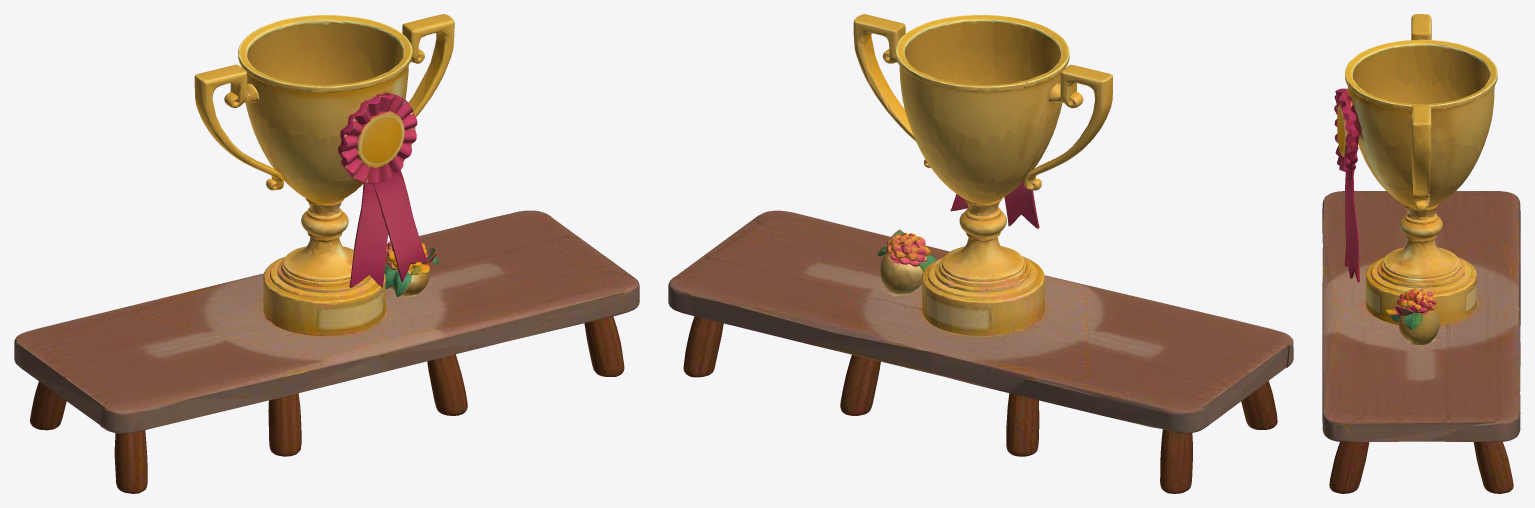
File: trophy_stand.glb
3 views of the same model, side by side, from view 1: azimuth 30°, elevation 25°; view 2: azimuth 150°, elevation 25°; view 3: azimuth 270°, elevation 25° (orthographic). The views are drawn at different scales.
Bounding box in the file's own units: 1.9 × 1.2 × 0.6839.
1 material, 1 textured.
